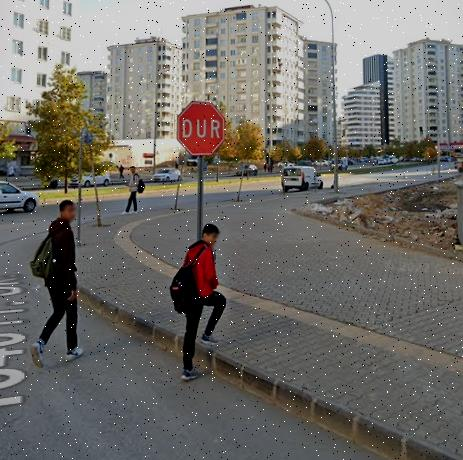stop: (174, 98, 229, 159)
